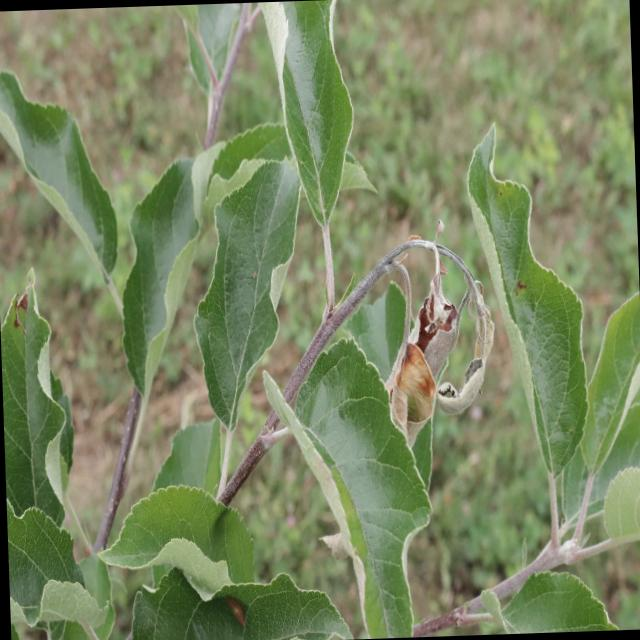-FireBlight-: (380, 222, 494, 457)
